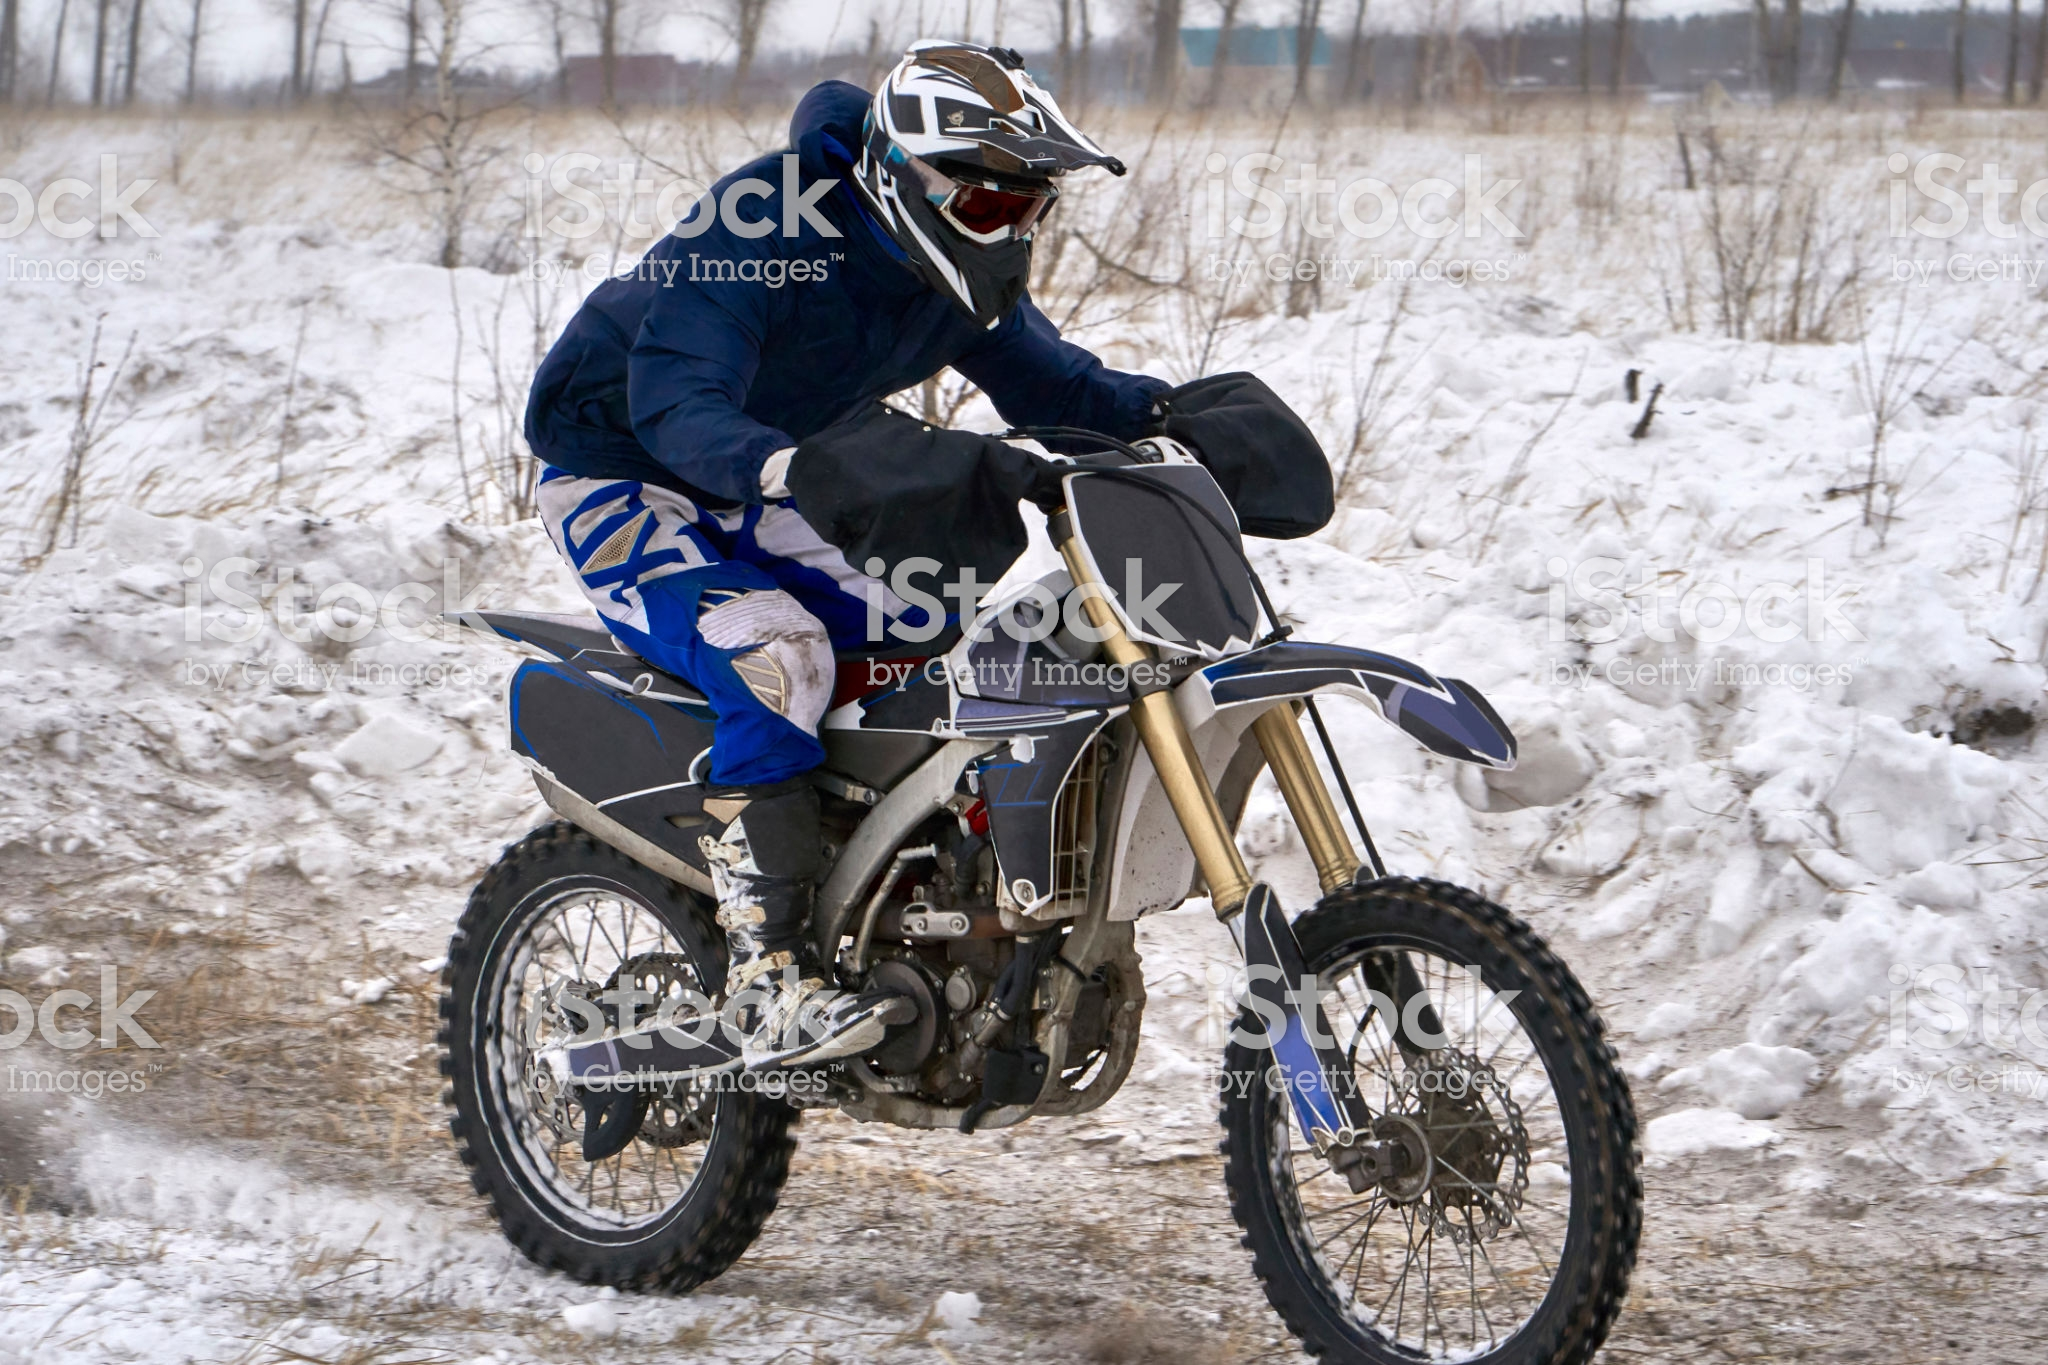helmet: (853, 49, 1099, 306)
